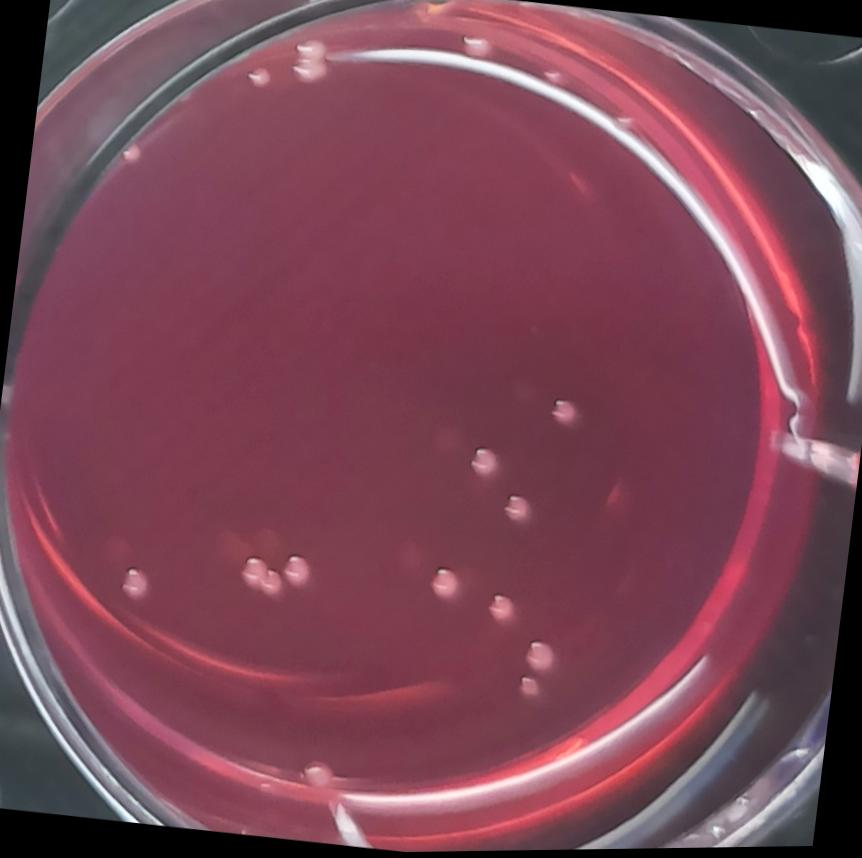bcereus: (230, 538, 320, 611), (288, 21, 344, 87), (422, 555, 477, 611), (538, 385, 590, 441), (488, 483, 540, 535), (294, 747, 344, 800), (459, 438, 508, 491), (473, 583, 524, 632), (518, 631, 567, 679), (111, 560, 161, 607)
